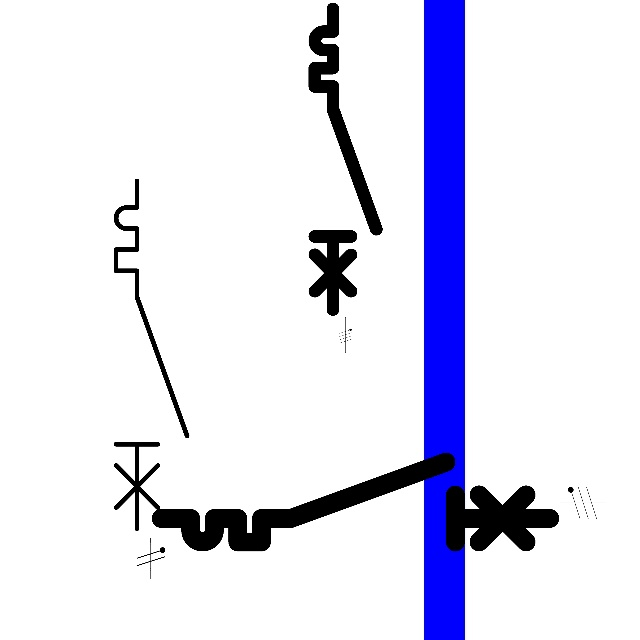interruptor_termomagnetico: (151, 452, 560, 552), (107, 172, 196, 538), (307, 1, 384, 317)
